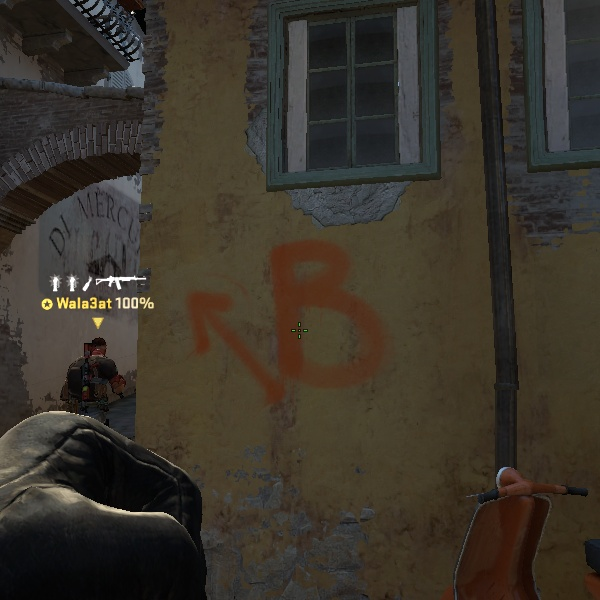t_body: (54, 331, 140, 425)
t_head: (80, 330, 113, 363)
